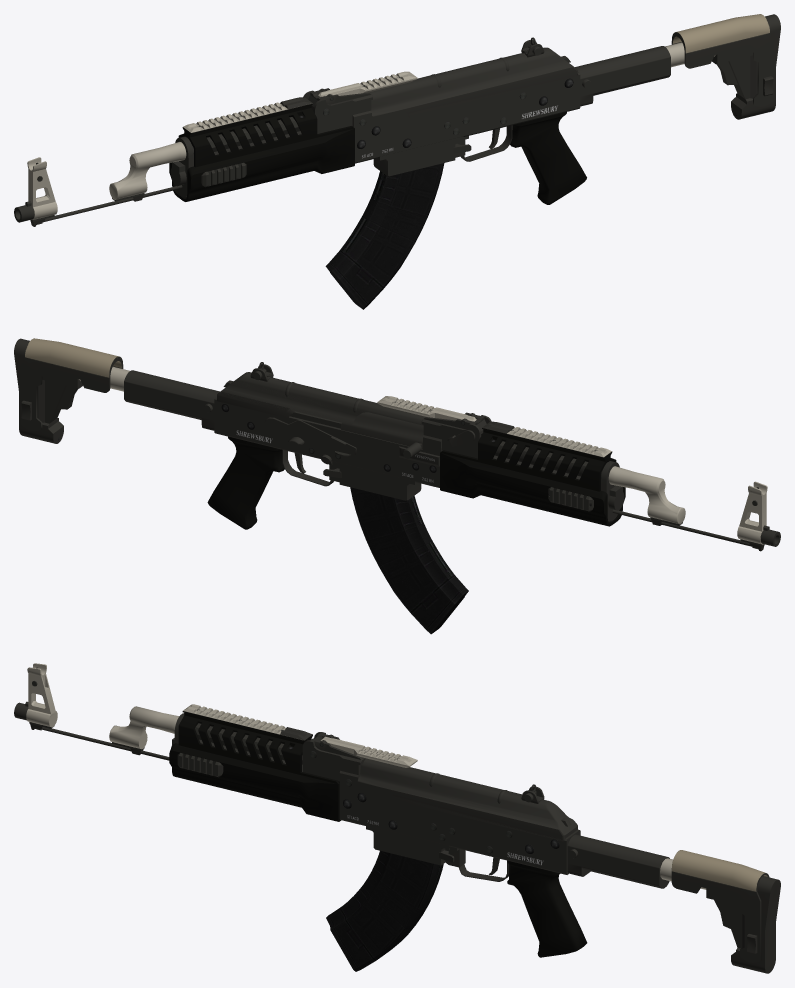
Rendered from weapon_assaultrifle_mk2.glb.
3 renders of one model, top to bottom at view 1: azimuth 30°, elevation 25°; view 2: azimuth 150°, elevation 25°; view 3: azimuth 330°, elevation 25°, orthographic.
Parts seen in each view (by area): view 1: main_frame_assaultrifle_mk2, stock_assaultrifle_mk2, magazine_assaultrifle_mk2, grip_assaultrifle_mk2, handguard_assaultrifle_mk2, gas_block_assaultrifle_mk2, front_sight_assaultrifle_mk2, cleaning_rod_assaultrifle_mk2; view 2: main_frame_assaultrifle_mk2, stock_assaultrifle_mk2, magazine_assaultrifle_mk2, grip_assaultrifle_mk2, handguard_assaultrifle_mk2, gas_block_assaultrifle_mk2, front_sight_assaultrifle_mk2, cleaning_rod_assaultrifle_mk2; view 3: main_frame_assaultrifle_mk2, stock_assaultrifle_mk2, magazine_assaultrifle_mk2, grip_assaultrifle_mk2, handguard_assaultrifle_mk2, gas_block_assaultrifle_mk2, front_sight_assaultrifle_mk2, cleaning_rod_assaultrifle_mk2.
Boxes of the visible parts, <box> form: main_frame_assaultrifle_mk2: <box>170,47,580,197</box>; stock_assaultrifle_mk2: <box>575,14,780,119</box>; magazine_assaultrifle_mk2: <box>325,163,444,309</box>; grip_assaultrifle_mk2: <box>373,112,586,204</box>; handguard_assaultrifle_mk2: <box>169,138,319,201</box>; gas_block_assaultrifle_mk2: <box>109,142,186,201</box>; front_sight_assaultrifle_mk2: <box>14,157,57,222</box>; cleaning_rod_assaultrifle_mk2: <box>30,185,182,226</box>; main_frame_assaultrifle_mk2: <box>214,372,624,521</box>; stock_assaultrifle_mk2: <box>14,338,219,443</box>; magazine_assaultrifle_mk2: <box>350,487,468,634</box>; grip_assaultrifle_mk2: <box>207,436,421,529</box>; handguard_assaultrifle_mk2: <box>475,462,625,526</box>; gas_block_assaultrifle_mk2: <box>608,466,685,525</box>; front_sight_assaultrifle_mk2: <box>737,481,780,546</box>; cleaning_rod_assaultrifle_mk2: <box>612,509,764,551</box>; main_frame_assaultrifle_mk2: <box>171,704,580,874</box>; stock_assaultrifle_mk2: <box>567,834,780,973</box>; magazine_assaultrifle_mk2: <box>326,850,443,971</box>; grip_assaultrifle_mk2: <box>366,825,587,957</box>; handguard_assaultrifle_mk2: <box>169,743,301,807</box>; gas_block_assaultrifle_mk2: <box>109,706,179,755</box>; front_sight_assaultrifle_mk2: <box>14,663,57,728</box>; cleaning_rod_assaultrifle_mk2: <box>30,724,169,760</box>.
Bounding box in the file's own units: 103 × 29.46 × 7.65.
6 materials, 6 textured.
